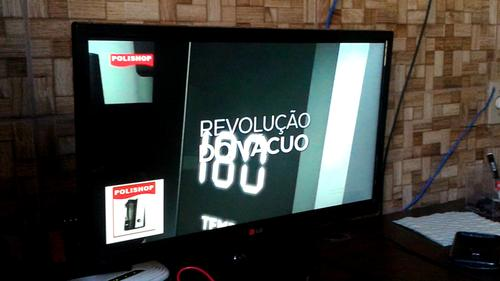Polishop #1: (106, 178, 164, 244)
